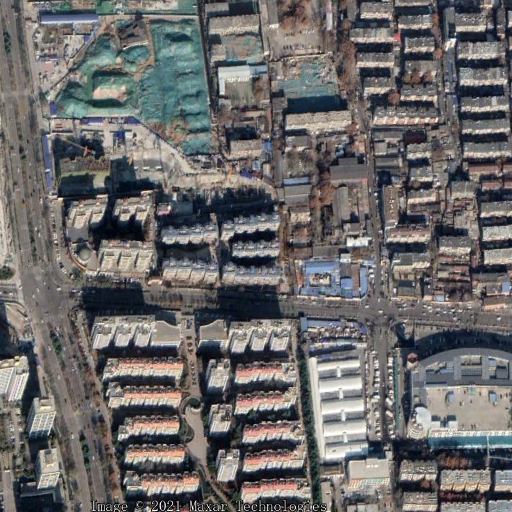cw: (35, 13, 219, 159), (277, 53, 343, 111)
